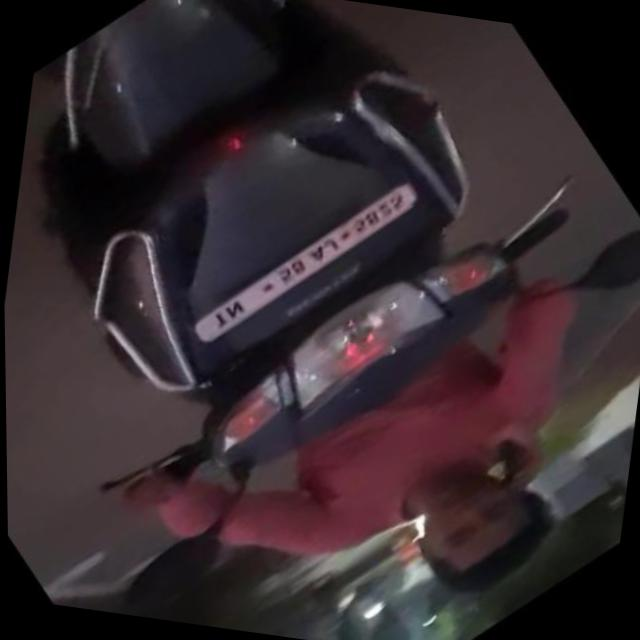USING_MOBILE: (414, 249, 640, 492)
